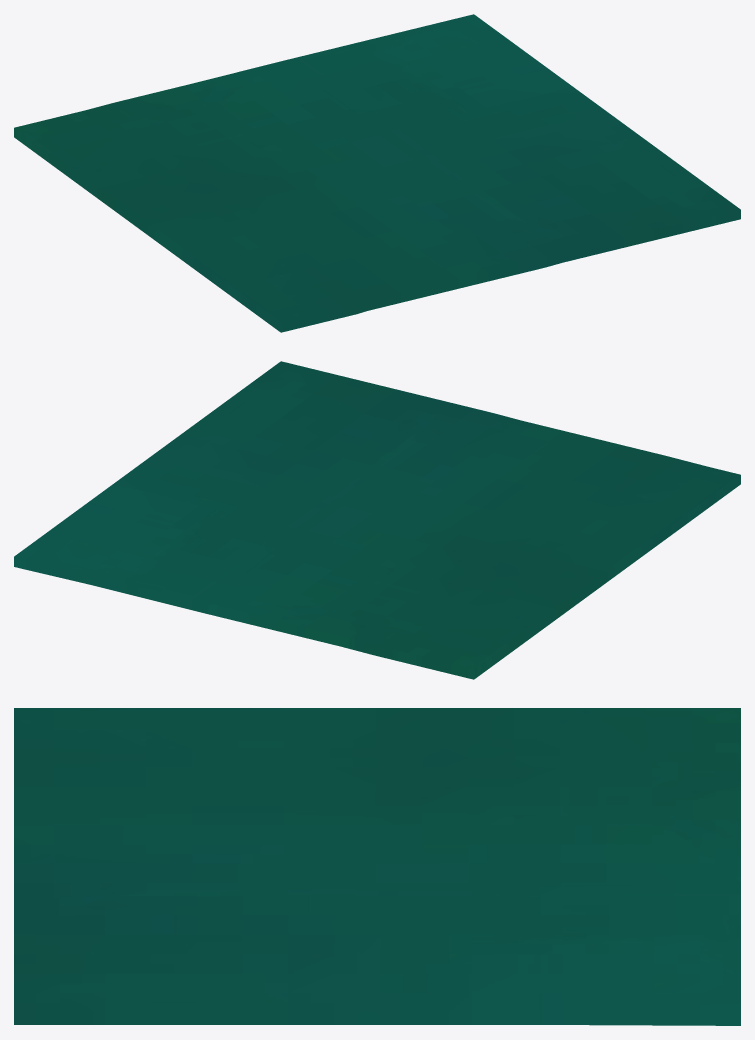
File: z16-10472-25321-h0-yup-uvflip-v3-world.glb
The picture shows the model from 3 angles, top to bottom: view 1: azimuth 30°, elevation 25°; view 2: azimuth 150°, elevation 25°; view 3: azimuth 270°, elevation 25°; orthographic projection. The views are drawn at different scales.
Size of the model in its own units: 483 by 10.88 by 485.
Materials: 1 (1 with a texture image).
